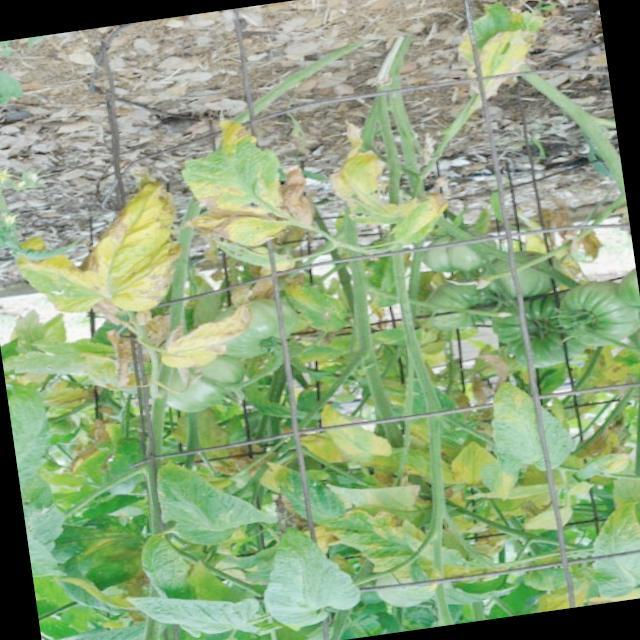Tomato Early blight leaf: (8, 184, 190, 330), (319, 114, 471, 252), (176, 108, 318, 253), (138, 521, 255, 614), (451, 0, 557, 102), (488, 374, 576, 480), (158, 290, 266, 375), (582, 495, 640, 603), (320, 397, 396, 465), (282, 268, 348, 339), (444, 439, 499, 492)
Tomato healthy leaf: (256, 514, 362, 630), (154, 456, 260, 555), (132, 586, 261, 640)
